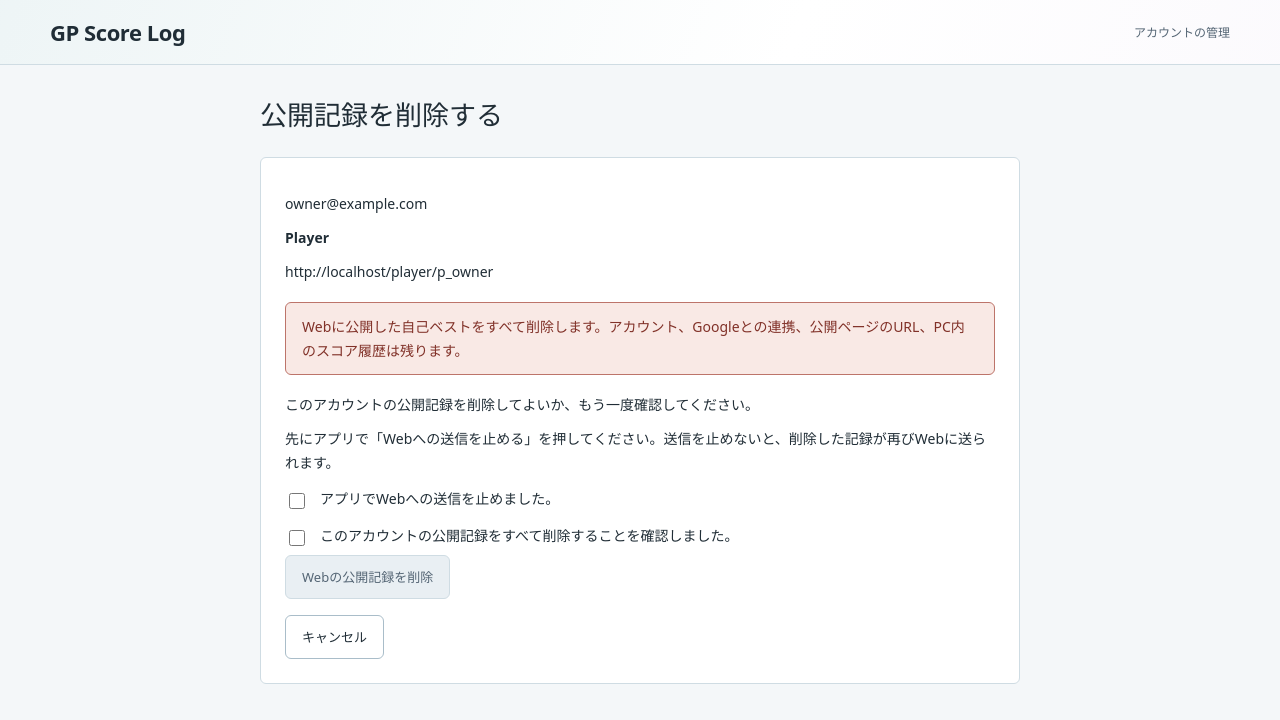
Test: Web management › public-record deletion requires stopped-sync consent, preserves the account and recovers a lost response
The width and height of the screenshot is (1280, 720).
Expected: the text "Player" is shown, [285, 228, 329, 247]
Expected: the text "アカウント、Googleとの連携、公開ページのURL、PC内のスコア履歴は残ります" is shown, [302, 317, 965, 360]
Click the checkbox labelled "このアカウントの公開記録をすべて削除することを確認しました。" at (297, 538), box [289, 530, 305, 546]
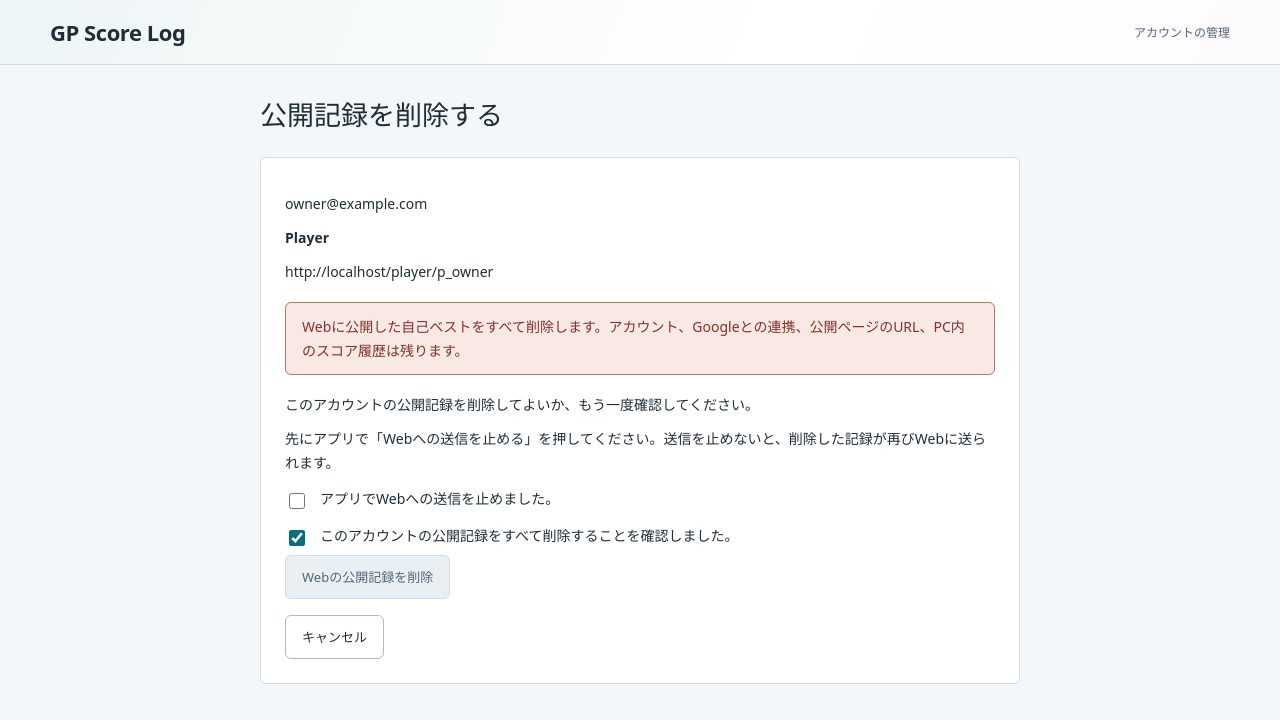
Expected: the button "Webの公開記録を削除" is disabled, [285, 555, 450, 599]
Click the checkbox labelled "アプリでWebへの送信を止めました。" at (297, 501), box [289, 493, 305, 509]
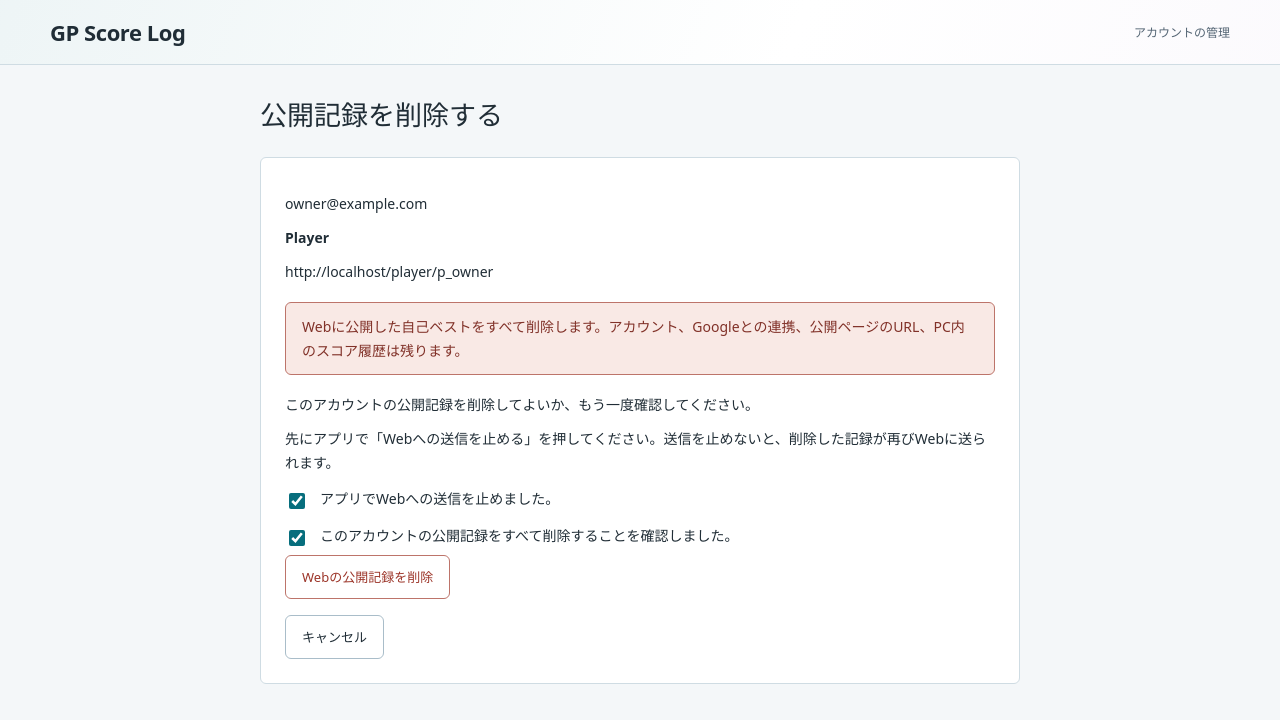
Expected: the button "キャンセル" is enabled, [285, 615, 384, 659]
Now the button "Webの公開記録を削除" is enabled
Click the button "Webの公開記録を削除" at (368, 577), box [285, 555, 450, 599]
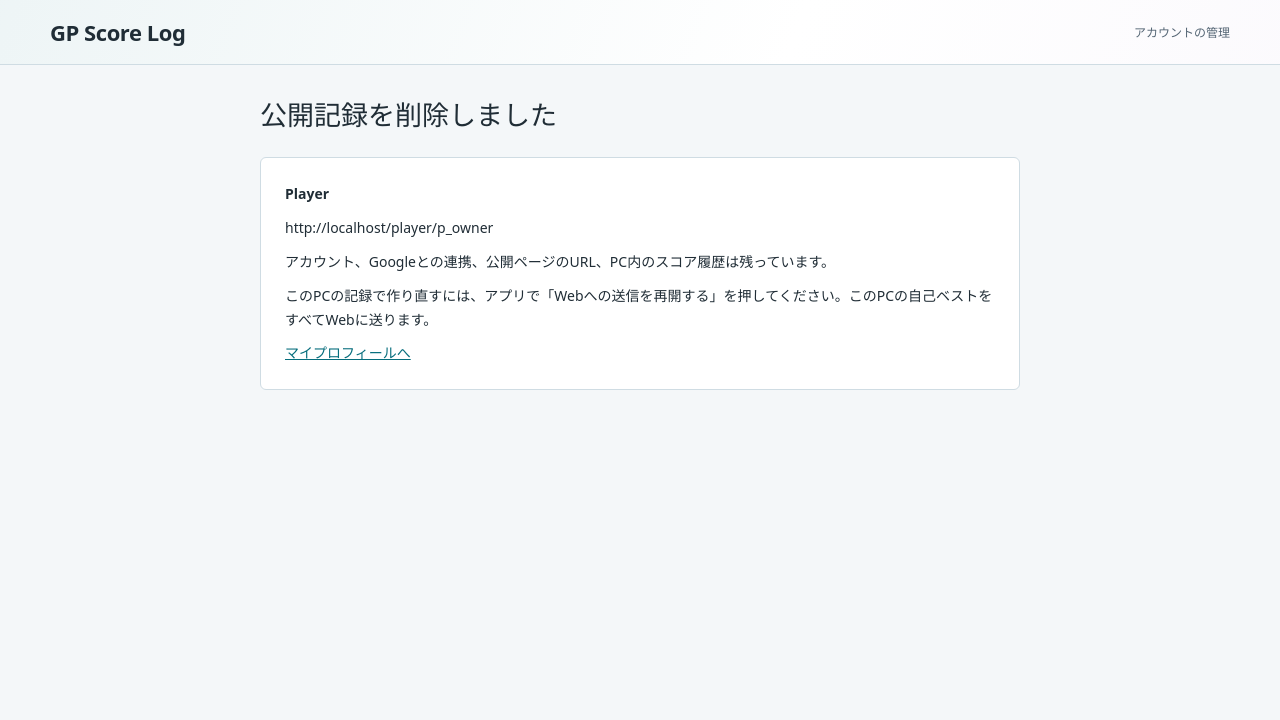
Now the heading "公開記録を削除しました" is shown, box [260, 96, 557, 133]
Now the text "Webへの送信を再開する" is shown, box [285, 286, 992, 329]
